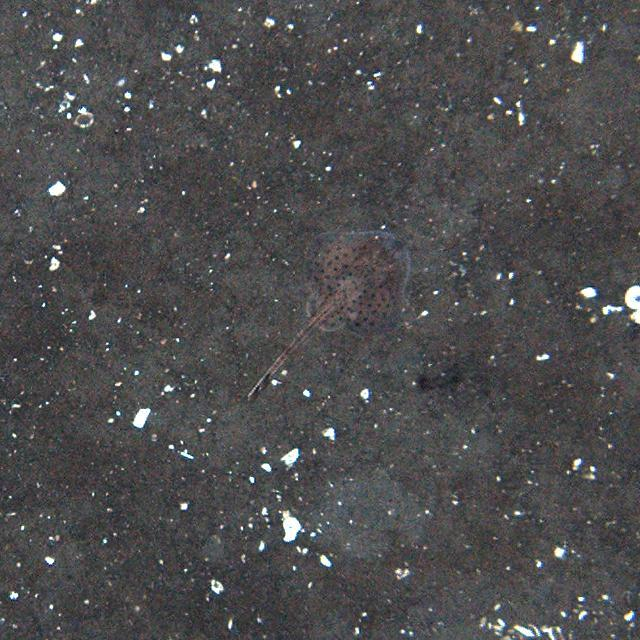skate: (232, 232, 417, 402)
